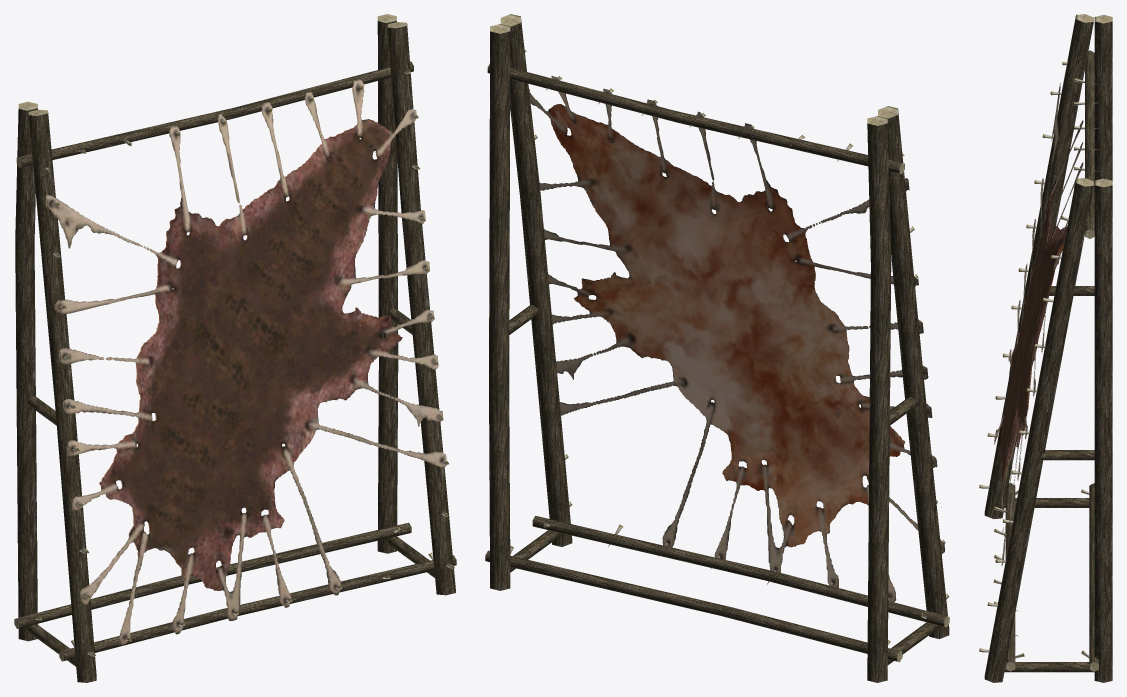
Rendered from thm_dant_hide_tanning_s01_l0.fbx.
The picture shows the model from 3 angles, left to right: view 1: azimuth 30°, elevation 25°; view 2: azimuth 150°, elevation 25°; view 3: azimuth 270°, elevation 25°; orthographic projection. The views are drawn at different scales.
Parts seen in each view (by area): view 1: mesh_node; view 2: mesh_node; view 3: mesh_node.
Part boxes in pixels (left/top/right/bottom): mesh_node: left=14, top=14, right=456, bottom=682; mesh_node: left=485, top=14, right=949, bottom=682; mesh_node: left=979, top=14, right=1112, bottom=682.
Bounding box in the file's own units: 1.39 × 1.81 × 0.4395.
